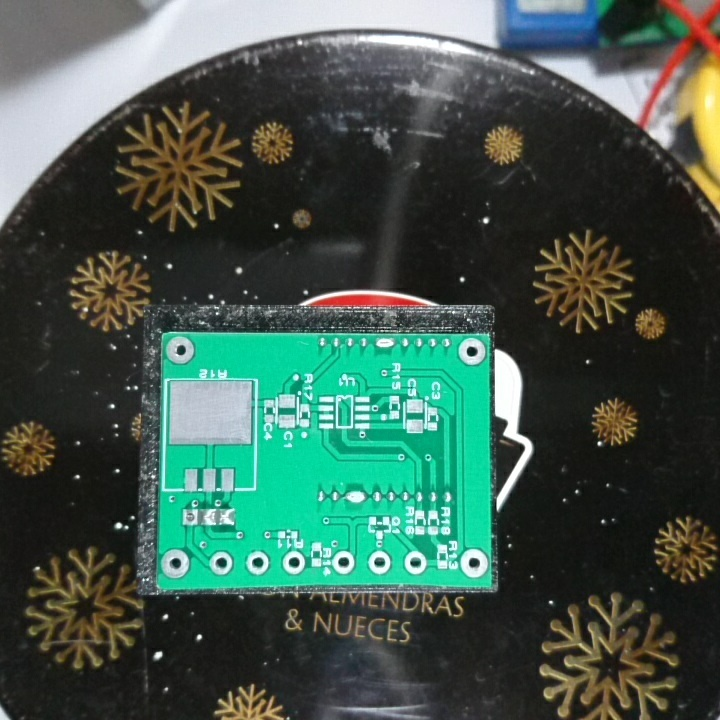F: (159, 546, 193, 585), (164, 333, 199, 369), (456, 335, 487, 369), (459, 547, 490, 580), (207, 547, 236, 577), (331, 547, 359, 578), (244, 549, 276, 573), (402, 549, 427, 578), (367, 549, 393, 575), (282, 548, 307, 575), (179, 506, 200, 530)
P: (341, 486, 369, 509), (373, 334, 396, 355)
